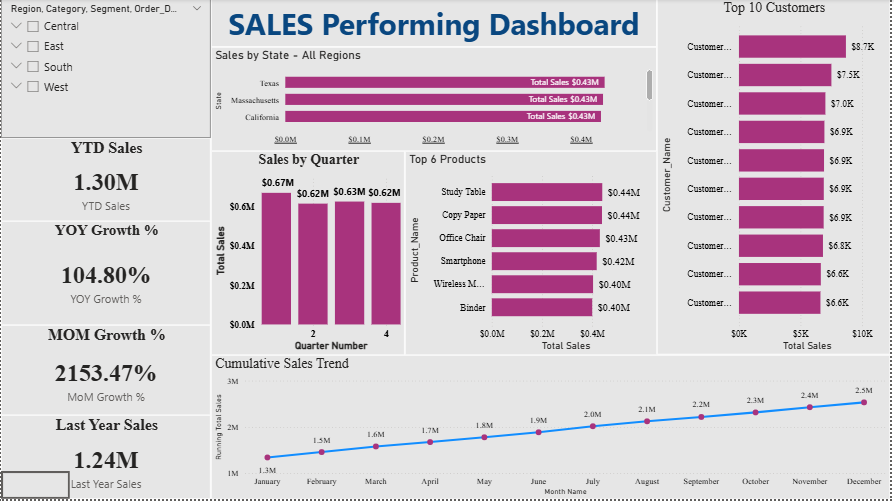

The dashboard page shown, as its layout file describes it:
{"tool":"powerbi","page":{"name":"Sales Analysis","canvas":[1280,720],"ordinal":1},"visuals":[{"type":"textbox","box":[302.4,0,641.7,68.9],"z":0},{"type":"card","title":"YTD Sales","fields":{"Values":["Measures (2).YTD Sales"]},"box":[0,200.2,302.4,119.5],"z":1000},{"type":"card","title":"YOY Growth %","fields":{"Values":["Measures (2).YOY Growth %"]},"box":[0,319.7,302.4,149.8],"z":2000},{"type":"card","title":"MOM Growth %","fields":{"Values":["Measures (2).MoM Growth %"]},"box":[0,469.4,302.4,129.6],"z":3000},{"type":"card","title":"Last Year Sales","fields":{"Values":["Measures (2).Last Year Sales"]},"box":[0,599,302.4,121],"z":4000},{"type":"clusteredColumnChart","title":"Sales by Quarter","fields":{"Category":["DimDate.Quarter"],"Y":["Measures (2).Total Sales"]},"box":[302.4,218.9,279.4,293.8],"z":5000},{"type":"clusteredBarChart","title":"Top 10 Customers","fields":{"Category":["Orders.Customer_Name"],"Y":["Measures (2).Total Sales"]},"box":[944,0,336,512.3],"z":6000},{"type":"clusteredBarChart","title":"Top 6 Products","fields":{"Category":["Orders.Product_Name"],"Y":["Measures (2).Total Sales"]},"box":[581.2,218.4,362.8,294],"z":7000},{"type":"clusteredBarChart","fields":{"Category":["Orders.State"],"Y":["Measures (2).Total Sales"]},"box":[302.4,68.9,641.7,149.5],"z":8000},{"type":"lineChart","title":"Cumulative Sales Trend","fields":{"Category":["DimDate.Month Name"],"Y":["Measures (2).Running Total Sales"]},"box":[302.4,512.3,977.6,208.3],"z":9000},{"type":"actionButton","title":"Back","box":[0,679.7,99.4,40.3],"z":10000},{"type":"slicer","fields":{"Values":["Orders.Region","Orders.Category","Orders.Segment","Orders.Order_Date"]},"box":[0,0,302.4,200.2],"z":11000}]}

Visuals, with their boxes in screenshot pixels (x1, y1, x2, y2), scaled from the page's 1280x720 canvas onto the 894x501 screenshot:
textbox: box=[211, 0, 659, 48]
"YTD Sales" card: box=[0, 139, 211, 222]
"YOY Growth %" card: box=[0, 222, 211, 327]
"MOM Growth %" card: box=[0, 327, 211, 417]
"Last Year Sales" card: box=[0, 417, 211, 500]
"Sales by Quarter" clusteredColumnChart: box=[211, 152, 406, 357]
"Top 10 Customers" clusteredBarChart: box=[659, 0, 893, 356]
"Top 6 Products" clusteredBarChart: box=[406, 152, 659, 357]
clusteredBarChart - Orders.State x Measures (2).Total Sales: box=[211, 48, 659, 152]
"Cumulative Sales Trend" lineChart: box=[211, 356, 893, 500]
"Back" actionButton: box=[0, 473, 69, 500]
slicer - Orders.Region x Orders.Category: box=[0, 0, 211, 139]
